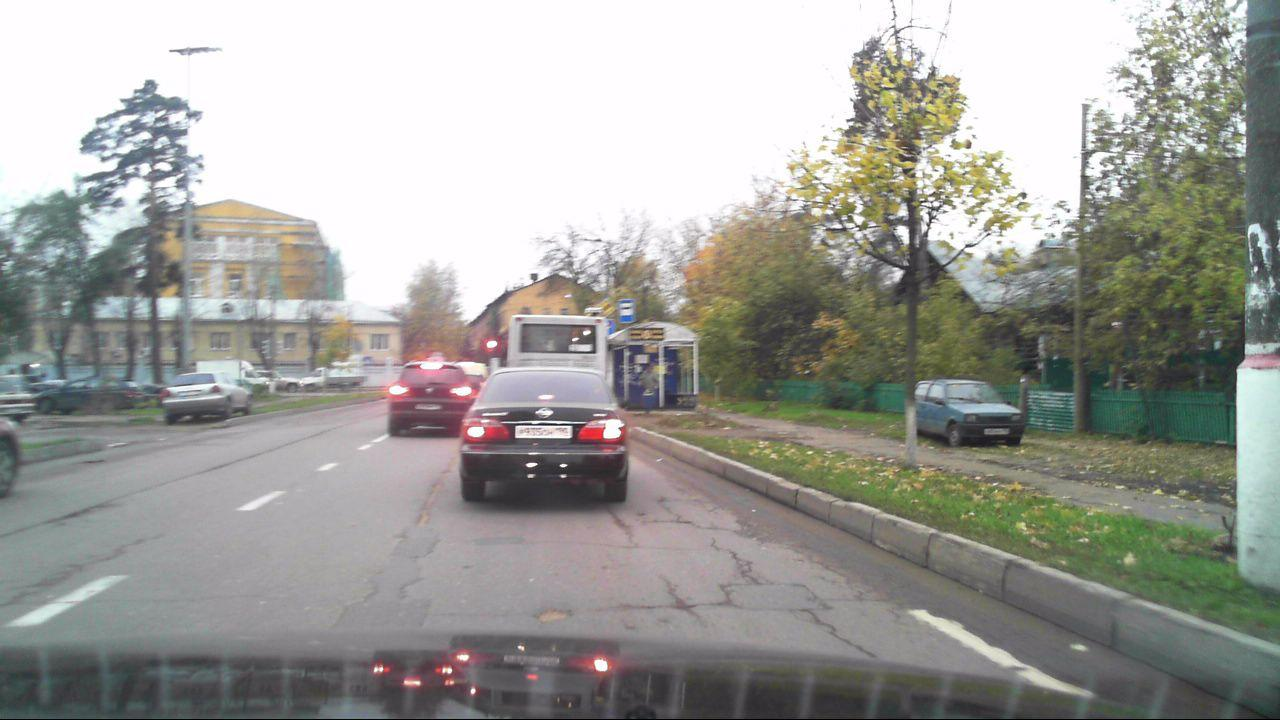2_2: (598, 296, 616, 315)
5_16: (617, 299, 636, 324)
